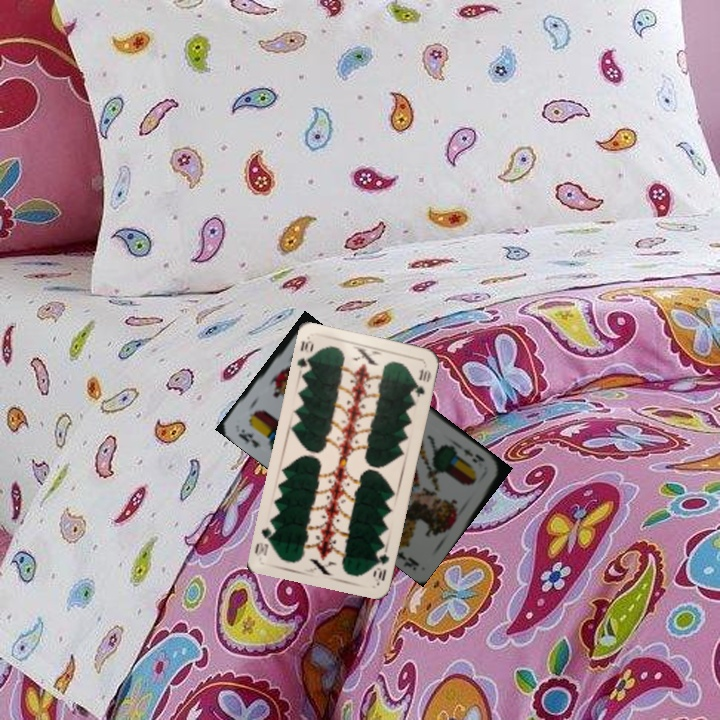EK: (234, 425, 263, 451), (460, 444, 487, 466)
G10: (369, 544, 392, 585), (293, 336, 316, 376)
